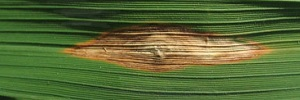RiceBlast: (59, 23, 277, 76)
